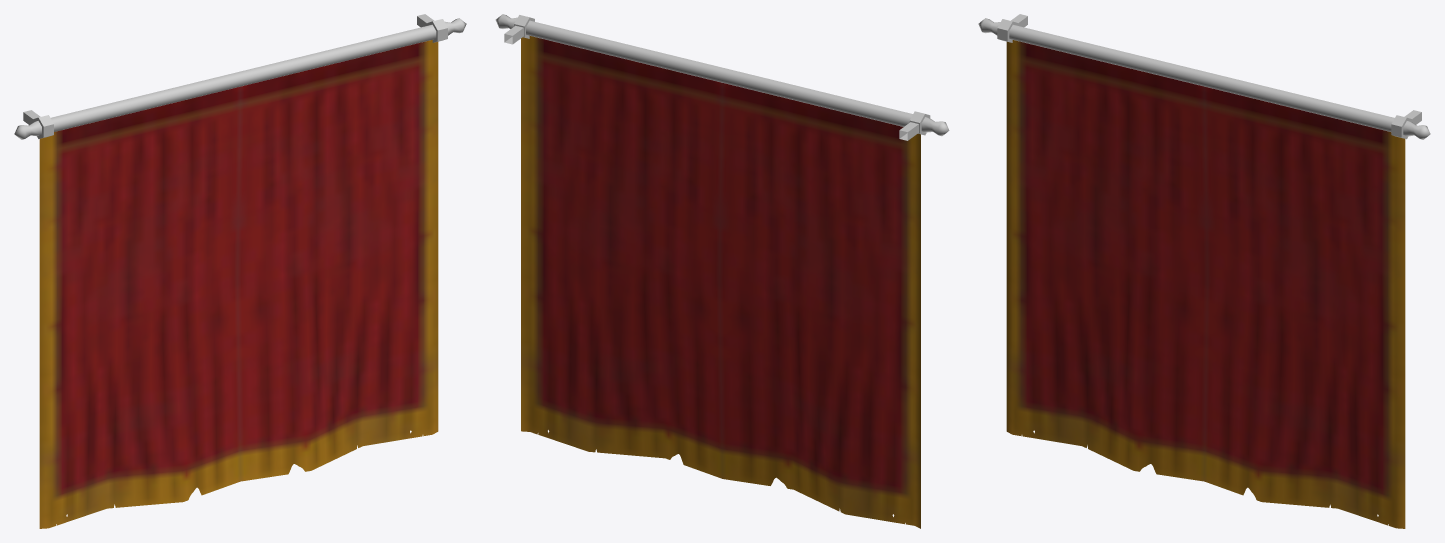
The model's file is Curtain_3A.fbx.
3 renders of one model, left to right at view 1: azimuth 30°, elevation 25°; view 2: azimuth 150°, elevation 25°; view 3: azimuth 330°, elevation 25°, orthographic.
Parts seen in each view (by area): view 1: Alpha, polySurface7632; view 2: Alpha, polySurface7632; view 3: Alpha, polySurface7632.
Part boxes in pixels (<box>): Alpha: <box>39,40,438,528</box>; polySurface7632: <box>14,14,466,139</box>; Alpha: <box>521,36,920,528</box>; polySurface7632: <box>495,14,949,140</box>; Alpha: <box>1006,40,1405,528</box>; polySurface7632: <box>978,14,1430,139</box>.
Size of the model in its own units: 4.36 by 3.81 by 0.3868.
